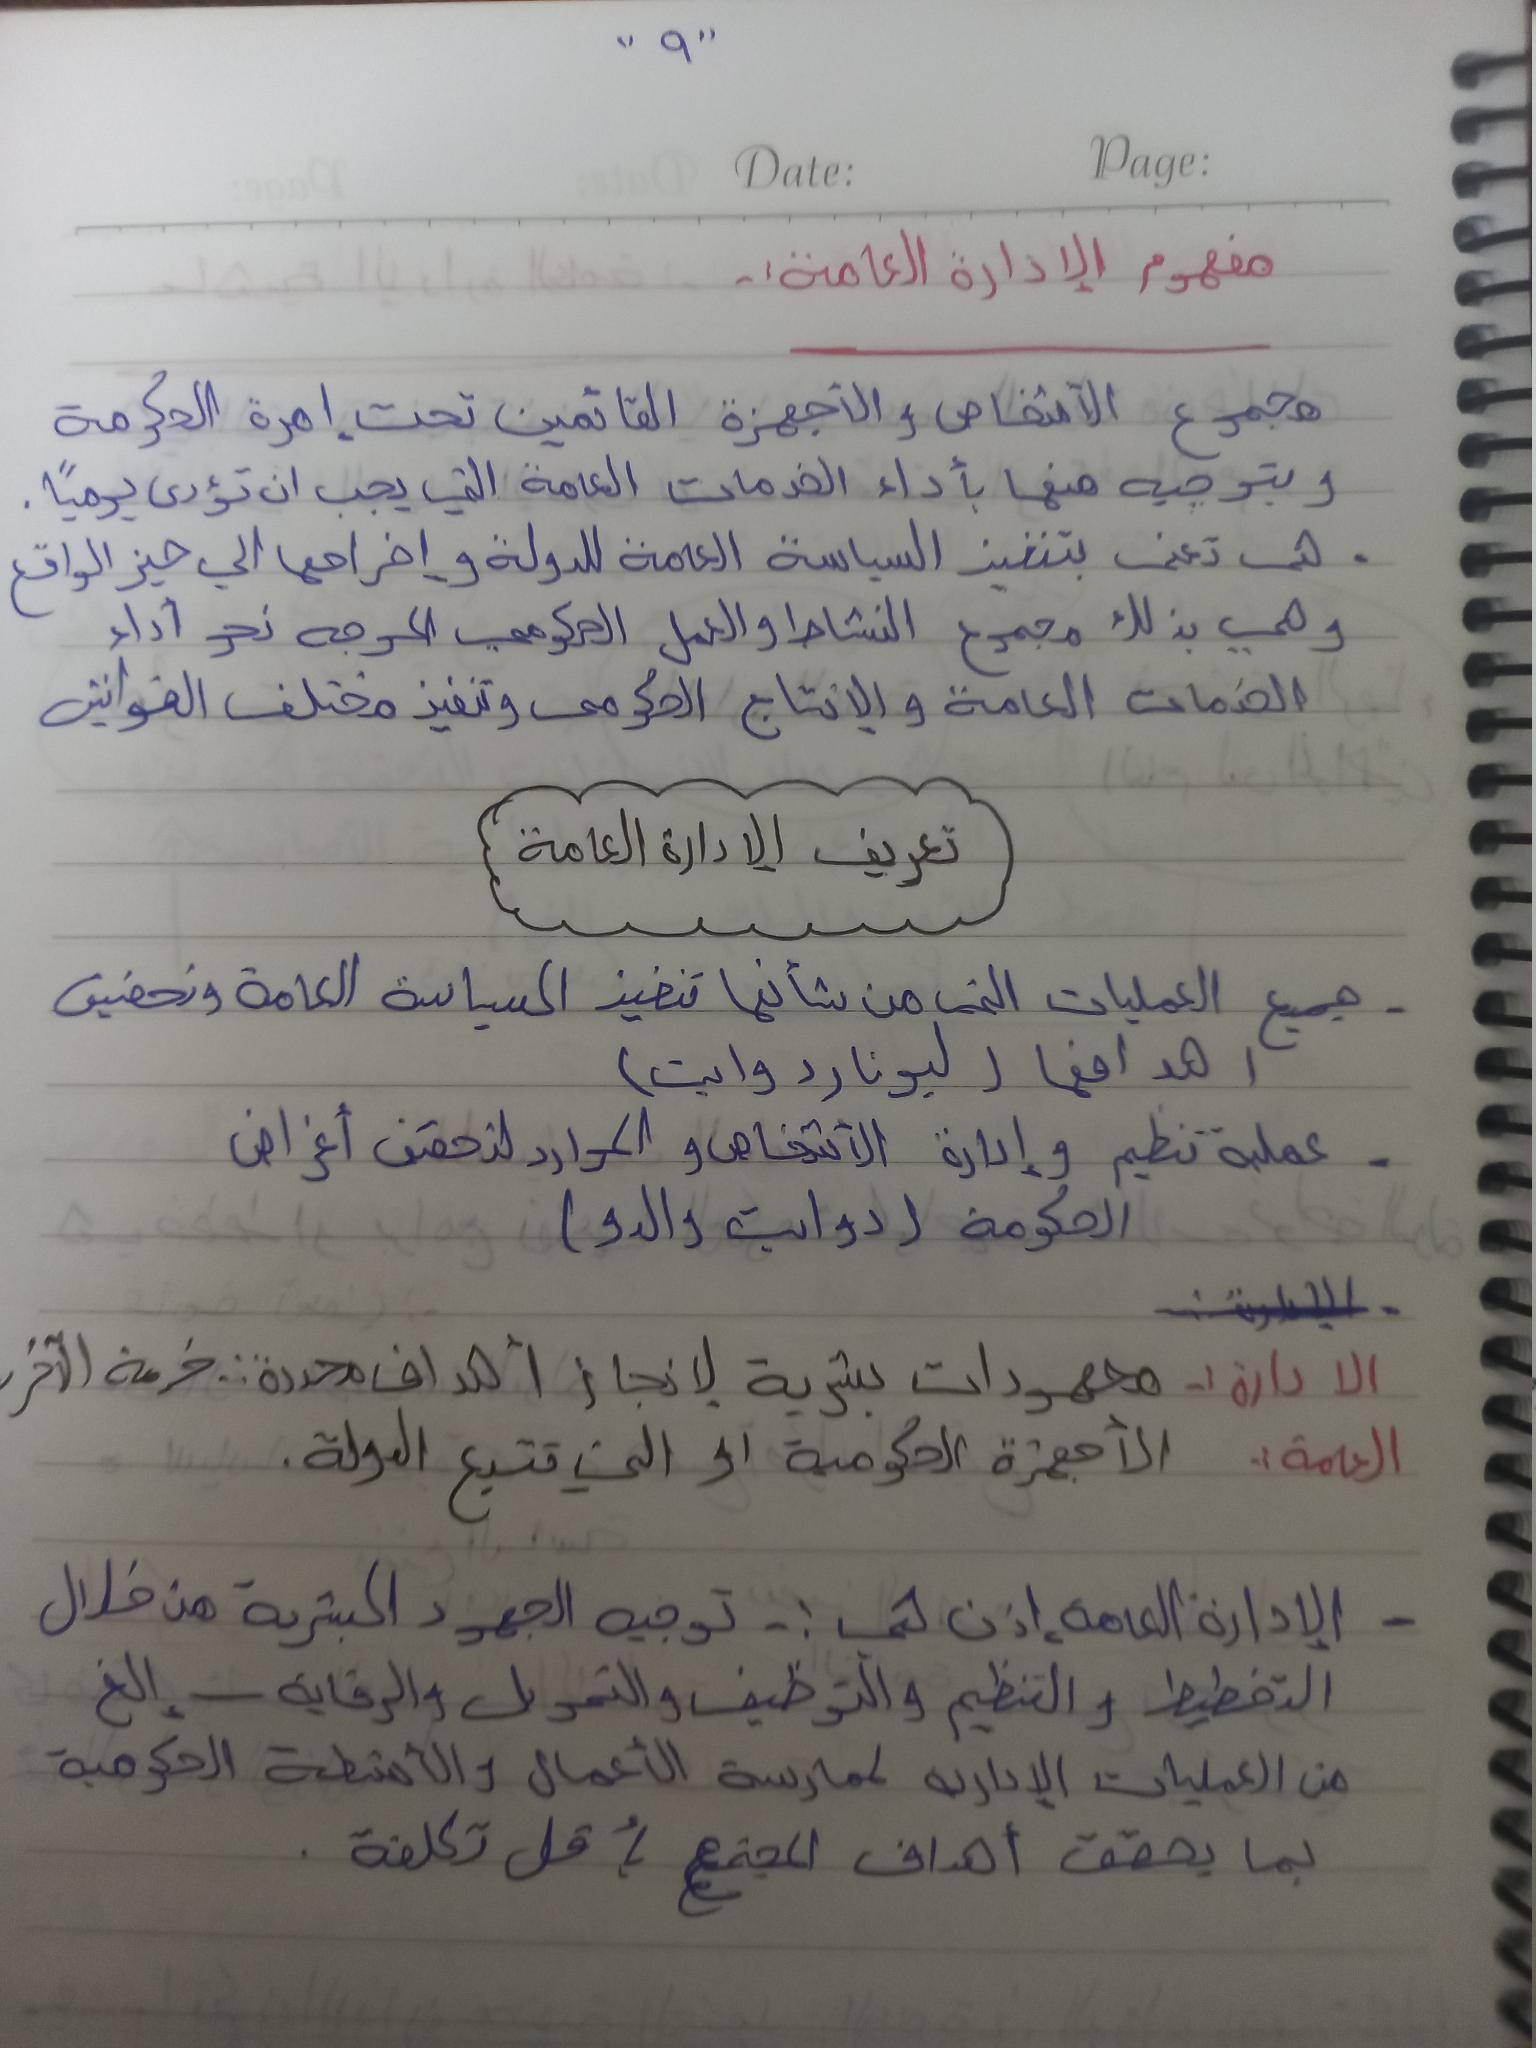19: (1217, 616, 1292, 653), (829, 1622, 910, 1655), (413, 476, 466, 516), (190, 560, 252, 587), (1236, 543, 1297, 569), (523, 698, 597, 719), (923, 985, 979, 1013), (144, 468, 177, 511), (1112, 550, 1176, 571), (908, 1048, 934, 1095), (116, 469, 137, 521), (787, 1376, 812, 1417), (624, 987, 645, 1029), (1181, 1769, 1204, 1808), (994, 547, 1012, 595), (395, 469, 413, 514), (63, 489, 79, 522), (865, 553, 881, 585), (476, 993, 487, 1039)
21: (849, 1829, 923, 1875), (218, 677, 295, 719), (808, 826, 879, 866), (365, 1340, 418, 1390), (386, 1824, 423, 1866), (1223, 221, 1249, 277), (652, 961, 671, 1011), (445, 674, 466, 713), (1020, 526, 1034, 569)
22: (587, 382, 613, 435), (94, 618, 126, 643), (876, 471, 899, 497), (200, 471, 224, 492)
23: (1063, 1825, 1113, 1872), (1115, 1822, 1155, 1872), (560, 1811, 592, 1861), (147, 671, 181, 708), (35, 540, 60, 579), (626, 395, 652, 429)
24: (1105, 587, 1141, 640), (429, 1814, 463, 1861), (886, 1411, 923, 1453), (1021, 1195, 1078, 1219)
25: (121, 1548, 153, 1617), (1239, 1651, 1270, 1713), (774, 1114, 807, 1164), (378, 524, 411, 564), (1016, 389, 1042, 427), (797, 461, 820, 497)
27: (1107, 1413, 1155, 1476), (624, 1735, 678, 1787), (692, 1329, 724, 1408), (81, 1555, 116, 1621), (1066, 369, 1105, 429), (737, 806, 773, 871), (836, 377, 878, 431), (657, 606, 692, 666), (1289, 1585, 1325, 1645), (1055, 229, 1087, 293), (1326, 1345, 1362, 1395), (836, 1121, 876, 1164), (839, 671, 866, 724)
29: (936, 387, 983, 434), (703, 1124, 747, 1163)
30: (807, 1118, 842, 1176), (815, 968, 844, 1016), (841, 606, 873, 642), (318, 1582, 344, 1625)
31: (907, 1351, 979, 1398), (1086, 1763, 1170, 1801), (721, 1198, 794, 1240), (345, 395, 418, 434), (660, 469, 734, 505), (1047, 977, 1108, 1016), (702, 1584, 749, 1629), (644, 1061, 708, 1089), (465, 1814, 499, 1863), (1126, 687, 1186, 714), (937, 814, 968, 863), (1270, 1671, 1294, 1717), (513, 1435, 542, 1474), (318, 671, 342, 716), (797, 677, 818, 722), (537, 1437, 566, 1469), (458, 385, 478, 429), (236, 460, 253, 506), (1205, 531, 1226, 569), (689, 968, 705, 1014), (1187, 1130, 1208, 1166), (1029, 1667, 1044, 1713), (1255, 458, 1278, 487), (1055, 529, 1071, 563), (481, 669, 494, 710)
32: (1147, 1661, 1194, 1714), (778, 600, 821, 650), (1208, 1664, 1241, 1719)
33: (779, 1651, 815, 1713), (983, 1655, 1020, 1713), (1149, 1101, 1181, 1168), (411, 679, 436, 719), (1170, 603, 1183, 640)
34: (568, 1348, 608, 1419), (744, 402, 770, 453)
Alef: (499, 1322, 553, 1401), (997, 1814, 1031, 1880), (337, 1095, 361, 1163), (987, 382, 1016, 434), (1002, 461, 1033, 505), (721, 526, 749, 574), (195, 669, 218, 722), (631, 1106, 653, 1159), (913, 229, 933, 289), (161, 592, 184, 637), (620, 452, 642, 497), (771, 811, 791, 863), (553, 968, 574, 1011), (995, 235, 1016, 279), (1091, 232, 1110, 277), (928, 522, 945, 569), (868, 677, 887, 716), (1207, 959, 1220, 1016), (1105, 376, 1121, 421), (269, 537, 289, 574), (663, 382, 681, 423), (1292, 669, 1307, 716), (287, 461, 305, 497), (1160, 1417, 1170, 1480), (1016, 685, 1034, 719), (837, 461, 852, 495), (252, 519, 261, 569)
Alef Bkasra: (1160, 1825, 1194, 1869), (419, 400, 461, 429), (1073, 1206, 1104, 1242), (169, 1753, 211, 1777), (155, 535, 189, 564), (450, 1130, 484, 1159), (658, 687, 686, 719), (578, 613, 600, 645), (169, 402, 190, 427)
Daa: (308, 477, 358, 521), (1291, 1835, 1318, 1892), (865, 1353, 881, 1419), (1075, 535, 1091, 581), (1187, 614, 1205, 655), (970, 481, 987, 511)
Eiin: (413, 1590, 450, 1634), (855, 1201, 889, 1237), (1026, 242, 1049, 287), (1281, 1363, 1310, 1397), (1149, 1050, 1175, 1087), (1263, 1603, 1289, 1635), (449, 1369, 473, 1403), (1002, 1355, 1018, 1401), (915, 472, 944, 498), (145, 613, 168, 642), (712, 835, 733, 861), (792, 1056, 812, 1084), (624, 1214, 644, 1242), (779, 471, 799, 498), (1229, 697, 1249, 718), (528, 1145, 549, 1164)
Four: (1168, 393, 1213, 455), (449, 1447, 479, 1521), (1257, 974, 1283, 1050), (597, 827, 631, 860), (1037, 682, 1062, 722), (1171, 971, 1197, 1008), (881, 250, 907, 284), (1307, 1126, 1329, 1163), (1139, 1603, 1163, 1635), (915, 830, 941, 860), (587, 471, 618, 495), (1236, 1759, 1260, 1788), (691, 535, 713, 566), (318, 971, 334, 1009), (700, 619, 728, 642), (1349, 1448, 1368, 1479), (1181, 540, 1197, 563)
Haa: (1326, 971, 1362, 1022), (802, 392, 837, 440), (642, 1590, 673, 1642), (523, 1587, 549, 1646), (626, 1356, 653, 1409), (1262, 384, 1291, 434), (755, 1830, 781, 1882), (1184, 466, 1212, 514), (1100, 1356, 1134, 1395), (361, 469, 387, 518), (1029, 605, 1052, 651), (339, 613, 363, 655)
Lam: (465, 1338, 505, 1393), (881, 1584, 928, 1630), (1291, 522, 1325, 574), (962, 1829, 999, 1875), (1179, 1035, 1208, 1084), (779, 393, 805, 443), (1062, 1061, 1092, 1101), (497, 1595, 520, 1645), (1073, 1353, 1094, 1405), (1039, 1440, 1065, 1482), (1200, 242, 1221, 293), (1036, 476, 1063, 513), (297, 547, 323, 584), (745, 985, 771, 1022), (1283, 592, 1307, 631)
Meem: (1115, 468, 1163, 498), (716, 385, 745, 432), (989, 1429, 1018, 1472)
Noon: (35, 1553, 77, 1637), (458, 1666, 520, 1722), (503, 1809, 552, 1880), (523, 516, 541, 571), (592, 522, 605, 572), (573, 524, 589, 560)
Raa: (1247, 226, 1284, 284), (573, 1759, 616, 1793), (1096, 1142, 1128, 1185), (945, 1688, 970, 1742), (1133, 1353, 1163, 1395), (194, 1574, 216, 1627), (833, 252, 865, 287), (1141, 240, 1162, 292), (108, 1743, 140, 1775), (1063, 614, 1089, 653), (1325, 1756, 1350, 1793), (102, 403, 131, 435), (1296, 397, 1326, 426), (289, 405, 319, 434), (847, 1440, 874, 1472), (581, 1690, 615, 1716), (1078, 466, 1100, 505), (894, 989, 925, 1014), (373, 689, 395, 722), (1097, 1609, 1126, 1635), (565, 829, 586, 864), (660, 547, 686, 574), (345, 1353, 365, 1387), (1000, 1218, 1031, 1238), (997, 689, 1020, 716), (1313, 1450, 1333, 1477), (1242, 398, 1262, 426), (755, 469, 773, 498), (521, 619, 542, 643), (599, 695, 620, 719), (1276, 1851, 1297, 1875), (1012, 621, 1031, 647), (1207, 690, 1225, 718), (274, 985, 292, 1013), (1155, 993, 1178, 1014), (558, 479, 578, 503), (1284, 1138, 1302, 1164), (84, 484, 102, 508), (1221, 1771, 1236, 1795)
Seen: (942, 1596, 995, 1643), (489, 402, 544, 439), (855, 977, 897, 1022), (657, 1353, 691, 1400), (163, 1563, 187, 1627), (1297, 1759, 1328, 1798), (258, 597, 284, 640), (258, 471, 287, 503), (1037, 526, 1052, 569), (673, 966, 686, 1009)
Taa Marbota: (900, 848, 928, 892), (373, 1688, 395, 1727), (981, 256, 997, 300)
Waw: (766, 1743, 795, 1792), (490, 984, 528, 1021), (426, 969, 455, 1016), (810, 540, 845, 576), (881, 543, 916, 572)
Yaa: (763, 1419, 824, 1476), (237, 1567, 279, 1630), (502, 814, 555, 863), (742, 1345, 783, 1397), (349, 1816, 389, 1867), (231, 956, 269, 1009), (1212, 1124, 1252, 1171), (779, 245, 820, 290), (303, 1429, 342, 1476), (1187, 1590, 1226, 1637), (591, 1598, 636, 1637), (923, 1121, 962, 1164), (47, 398, 90, 437), (763, 531, 805, 569), (942, 677, 978, 721), (957, 1200, 995, 1238), (621, 532, 658, 572), (1221, 1358, 1250, 1408), (47, 1743, 87, 1779), (384, 968, 415, 1013), (520, 456, 553, 497), (487, 534, 523, 571), (652, 824, 687, 860), (947, 244, 973, 292), (297, 616, 334, 648), (1065, 1593, 1092, 1637), (247, 1356, 278, 1395), (1281, 1435, 1310, 1472), (244, 397, 273, 427)
Zero: (697, 1432, 741, 1484), (1086, 1687, 1126, 1735), (679, 1203, 716, 1253), (894, 1675, 928, 1727), (1317, 613, 1355, 651), (826, 1209, 865, 1248), (589, 1205, 624, 1247), (1220, 474, 1262, 510), (897, 685, 931, 729), (355, 1442, 384, 1485), (203, 627, 239, 663), (452, 550, 484, 589), (895, 397, 921, 445), (755, 608, 781, 655), (424, 1675, 449, 1722), (682, 1138, 712, 1177), (1312, 458, 1333, 511), (494, 692, 521, 732), (458, 1614, 492, 1646), (679, 1617, 713, 1650), (1050, 1137, 1075, 1180), (658, 1682, 682, 1725), (1025, 1372, 1050, 1413), (879, 1071, 915, 1098), (747, 1058, 773, 1095), (1213, 406, 1242, 439), (140, 419, 169, 452), (984, 626, 1013, 656), (1165, 271, 1194, 300), (123, 701, 148, 731), (197, 977, 218, 1013), (368, 631, 394, 658), (816, 1705, 845, 1729), (476, 1748, 492, 1790), (144, 1764, 165, 1796), (205, 493, 231, 518), (1031, 1226, 1052, 1255), (544, 548, 563, 579), (586, 1143, 605, 1174), (547, 634, 570, 660), (631, 705, 650, 734), (71, 563, 87, 590)
